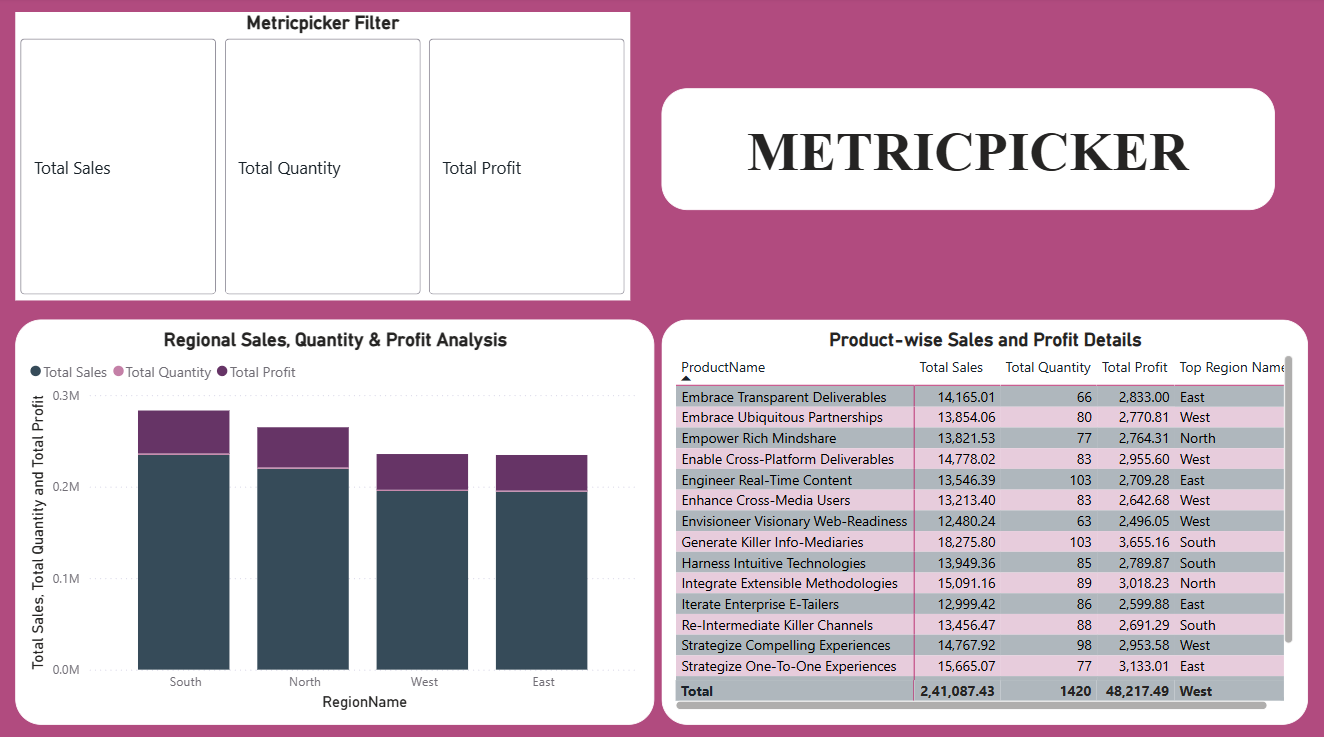

This screenshot's page, from the dashboard's own definition file:
{"tool":"powerbi","page":{"name":"Metricpicker","canvas":[1280,720],"ordinal":2},"visuals":[{"type":"advancedSlicerVisual","title":"Metricpicker Filter","fields":{"Values":["Metricpicker.Metricpicker"]},"box":[0,0,609,293.5],"z":0},{"type":"columnChart","title":"Regional Sales, Quantity & Profit Analysis","fields":{"Y":["Customer_Dim.Total Sales","Customer_Dim.Total Quantity","Customer_Dim.Total Profit","Customer_Dim.Total Sales"],"Category":["Region_Dim.RegionName"]},"box":[0,311.8,632.2,408.4],"z":1000},{"type":"pivotTable","title":"Product-wise Sales and Profit Details","fields":{"Values":["Customer_Dim.Total Sales","Customer_Dim.Total Quantity","Customer_Dim.Total Profit","Customer_Dim.Top Region Name"],"Rows":["Product_Dim.ProductName"]},"box":[639.5,311.8,640.8,408.4],"z":2000},{"type":"textbox","box":[639.5,88,591.9,117.4],"z":2001}]}

Visuals, with their boxes in screenshot pixels (x1, y1, x2, y2), scaled from the page's 1280x720 canvas onto the 1324x737 screenshot:
"Metricpicker Filter" advancedSlicerVisual: l=0, t=0, r=630, b=300
"Regional Sales, Quantity & Profit Analysis" columnChart: l=0, t=319, r=654, b=736
"Product-wise Sales and Profit Details" pivotTable: l=661, t=319, r=1323, b=736
textbox: l=661, t=90, r=1274, b=210
